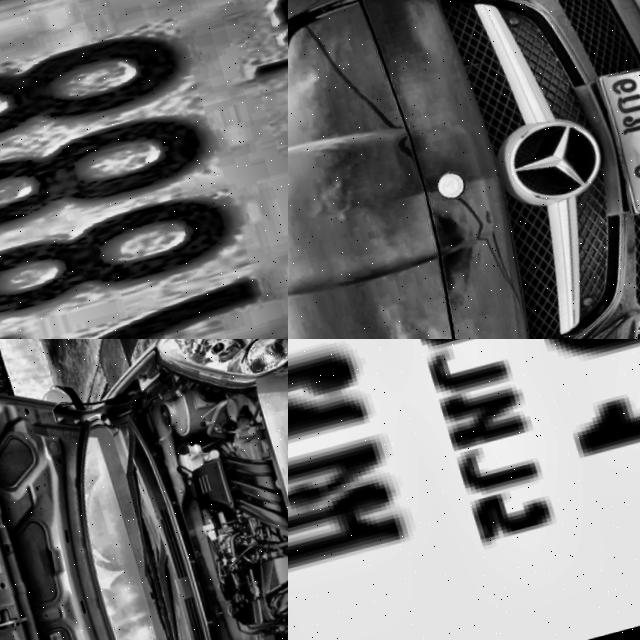license-plate: (288, 339, 640, 640), (0, 0, 288, 339), (578, 59, 640, 233)
